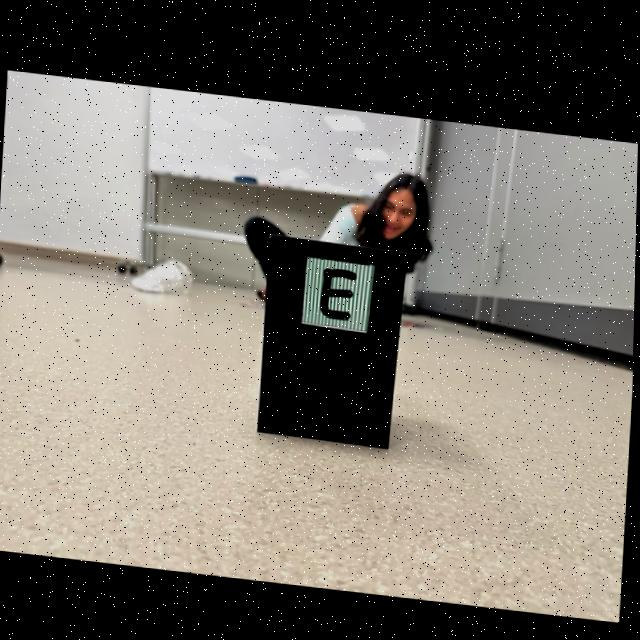E: (321, 264, 357, 313)
